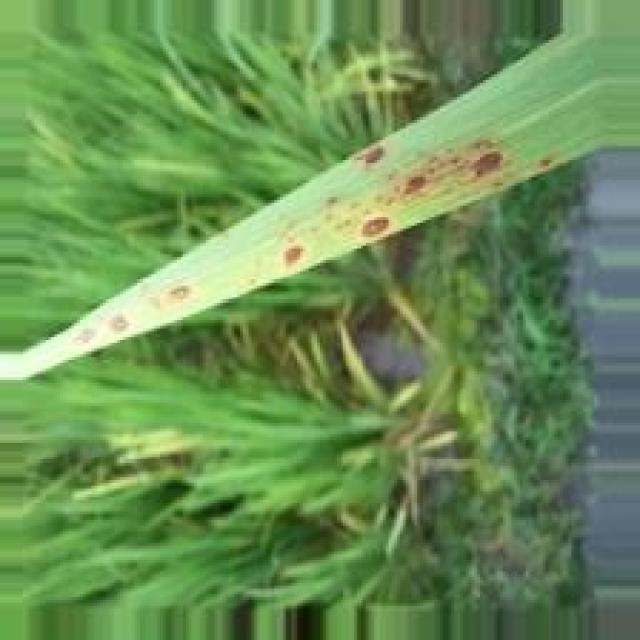Brown_Spot: (467, 145, 507, 186), (356, 136, 388, 172), (359, 210, 393, 242), (279, 240, 311, 274), (399, 169, 430, 204), (161, 280, 196, 308), (107, 315, 132, 338), (538, 152, 561, 173)
